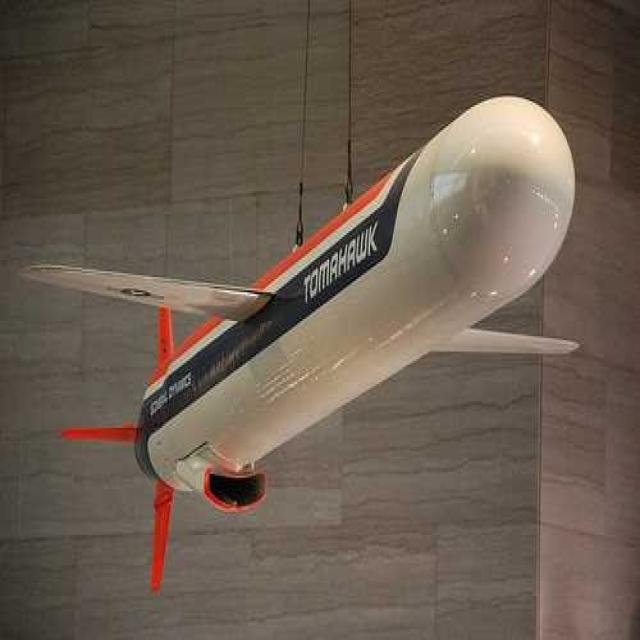missile: (17, 80, 576, 597)
